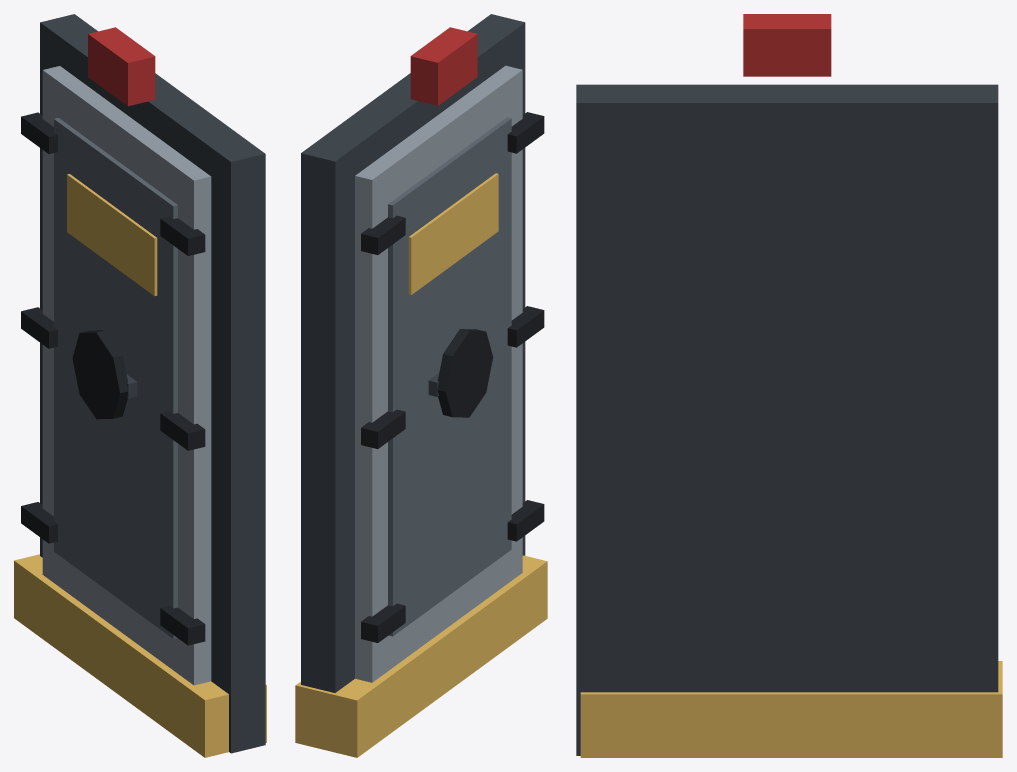
Rendered from env_carrier_door.fbx.
The picture shows the model from 3 angles, left to right: view 1: azimuth 30°, elevation 25°; view 2: azimuth 150°, elevation 25°; view 3: azimuth 270°, elevation 25°; orthographic projection. The views are drawn at different scales.
Visible parts, largest first — view 1: env_carrier_door; view 2: env_carrier_door; view 3: env_carrier_door.
Part boxes in pixels (x1,y1,x2,y2): env_carrier_door: (14,14,266,757); env_carrier_door: (295,14,547,757); env_carrier_door: (576,14,1002,757).
Size of the model in its own units: 112 by 890 by 485.
